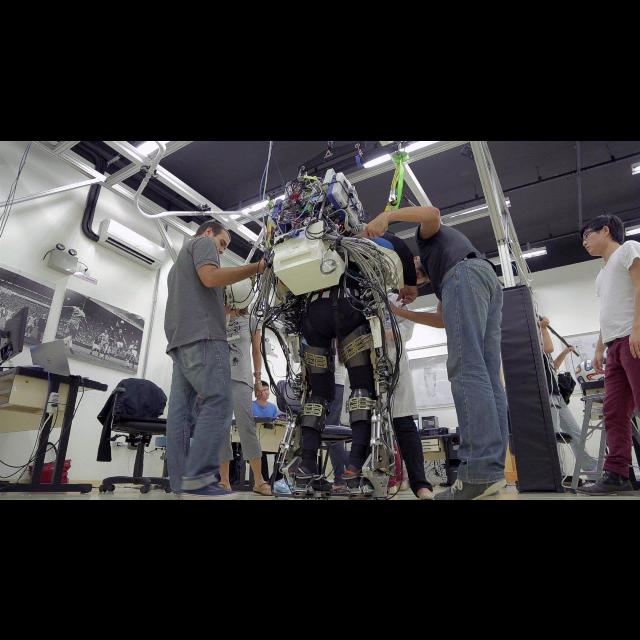head: (582, 213, 626, 257), (194, 221, 232, 259), (402, 255, 430, 288), (328, 214, 356, 240), (364, 260, 391, 286), (223, 284, 247, 312), (256, 380, 270, 400), (529, 320, 541, 336), (326, 294, 338, 308)
person: (514, 301, 620, 489), (291, 281, 373, 497), (201, 282, 279, 500), (238, 378, 284, 492)
